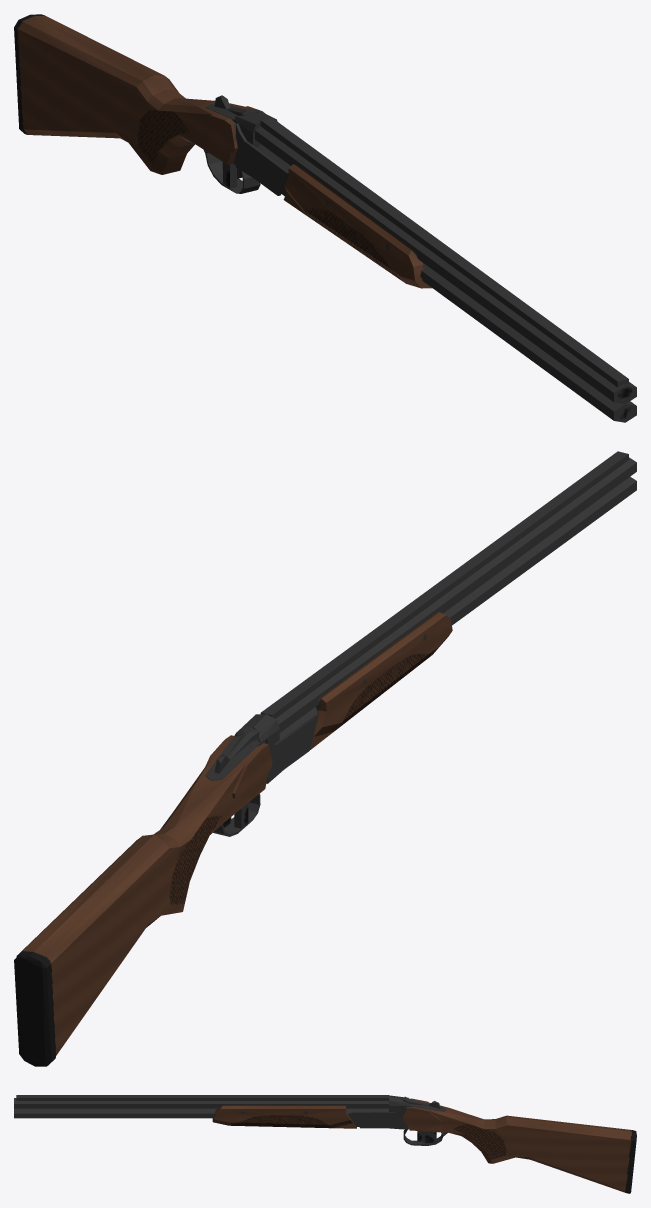
Rendered from SM_Shotgun_TOZ34.fbx.
3 views of the same model, one above another, from view 1: azimuth 30°, elevation 25°; view 2: azimuth 150°, elevation 25°; view 3: azimuth 270°, elevation 25° (orthographic). The views are drawn at different scales.
Parts seen in each view (by area): view 1: SM_Shotgun_TOZ34; view 2: SM_Shotgun_TOZ34; view 3: SM_Shotgun_TOZ34.
Boxes of the visible parts, x1,y1,x2,y2 form: SM_Shotgun_TOZ34: (14,14,636,422); SM_Shotgun_TOZ34: (14,451,636,1066); SM_Shotgun_TOZ34: (14,1095,636,1193).
Size of the model in its own units: 4.2 by 19.51 by 115.
Materials: 1 (1 with a texture image).
